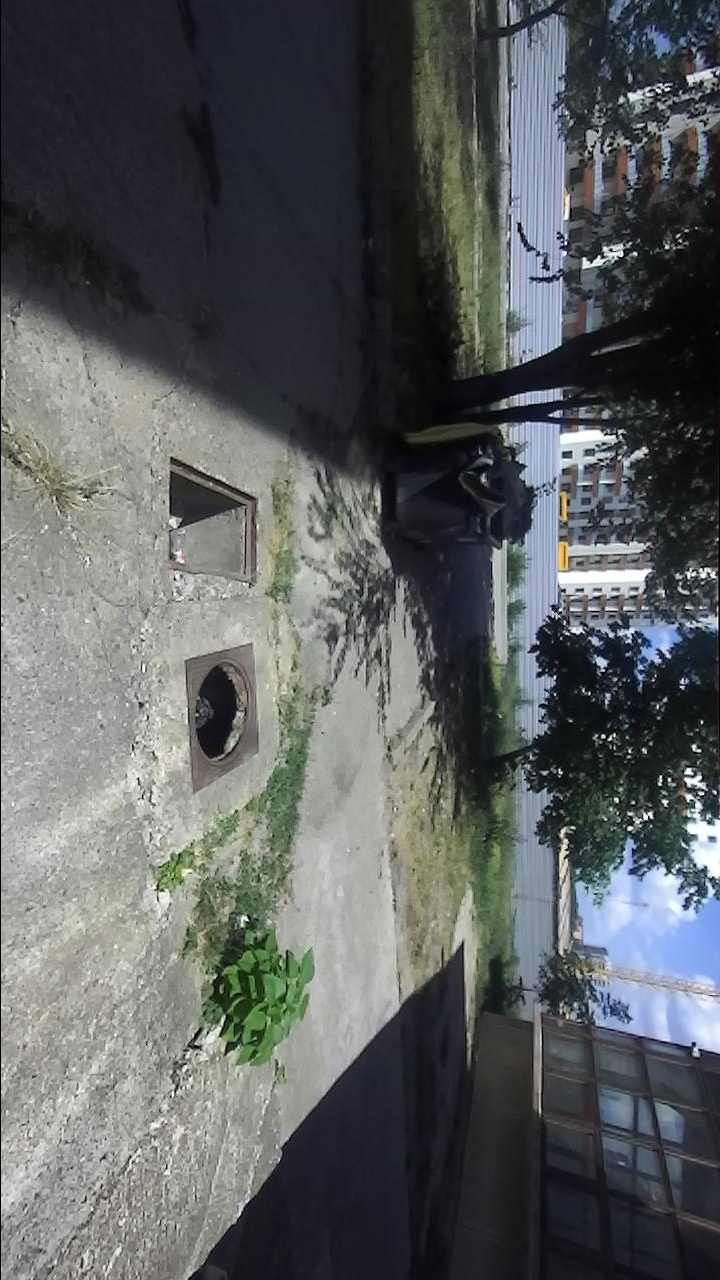drain: (159, 454, 265, 589), (189, 656, 254, 772)
